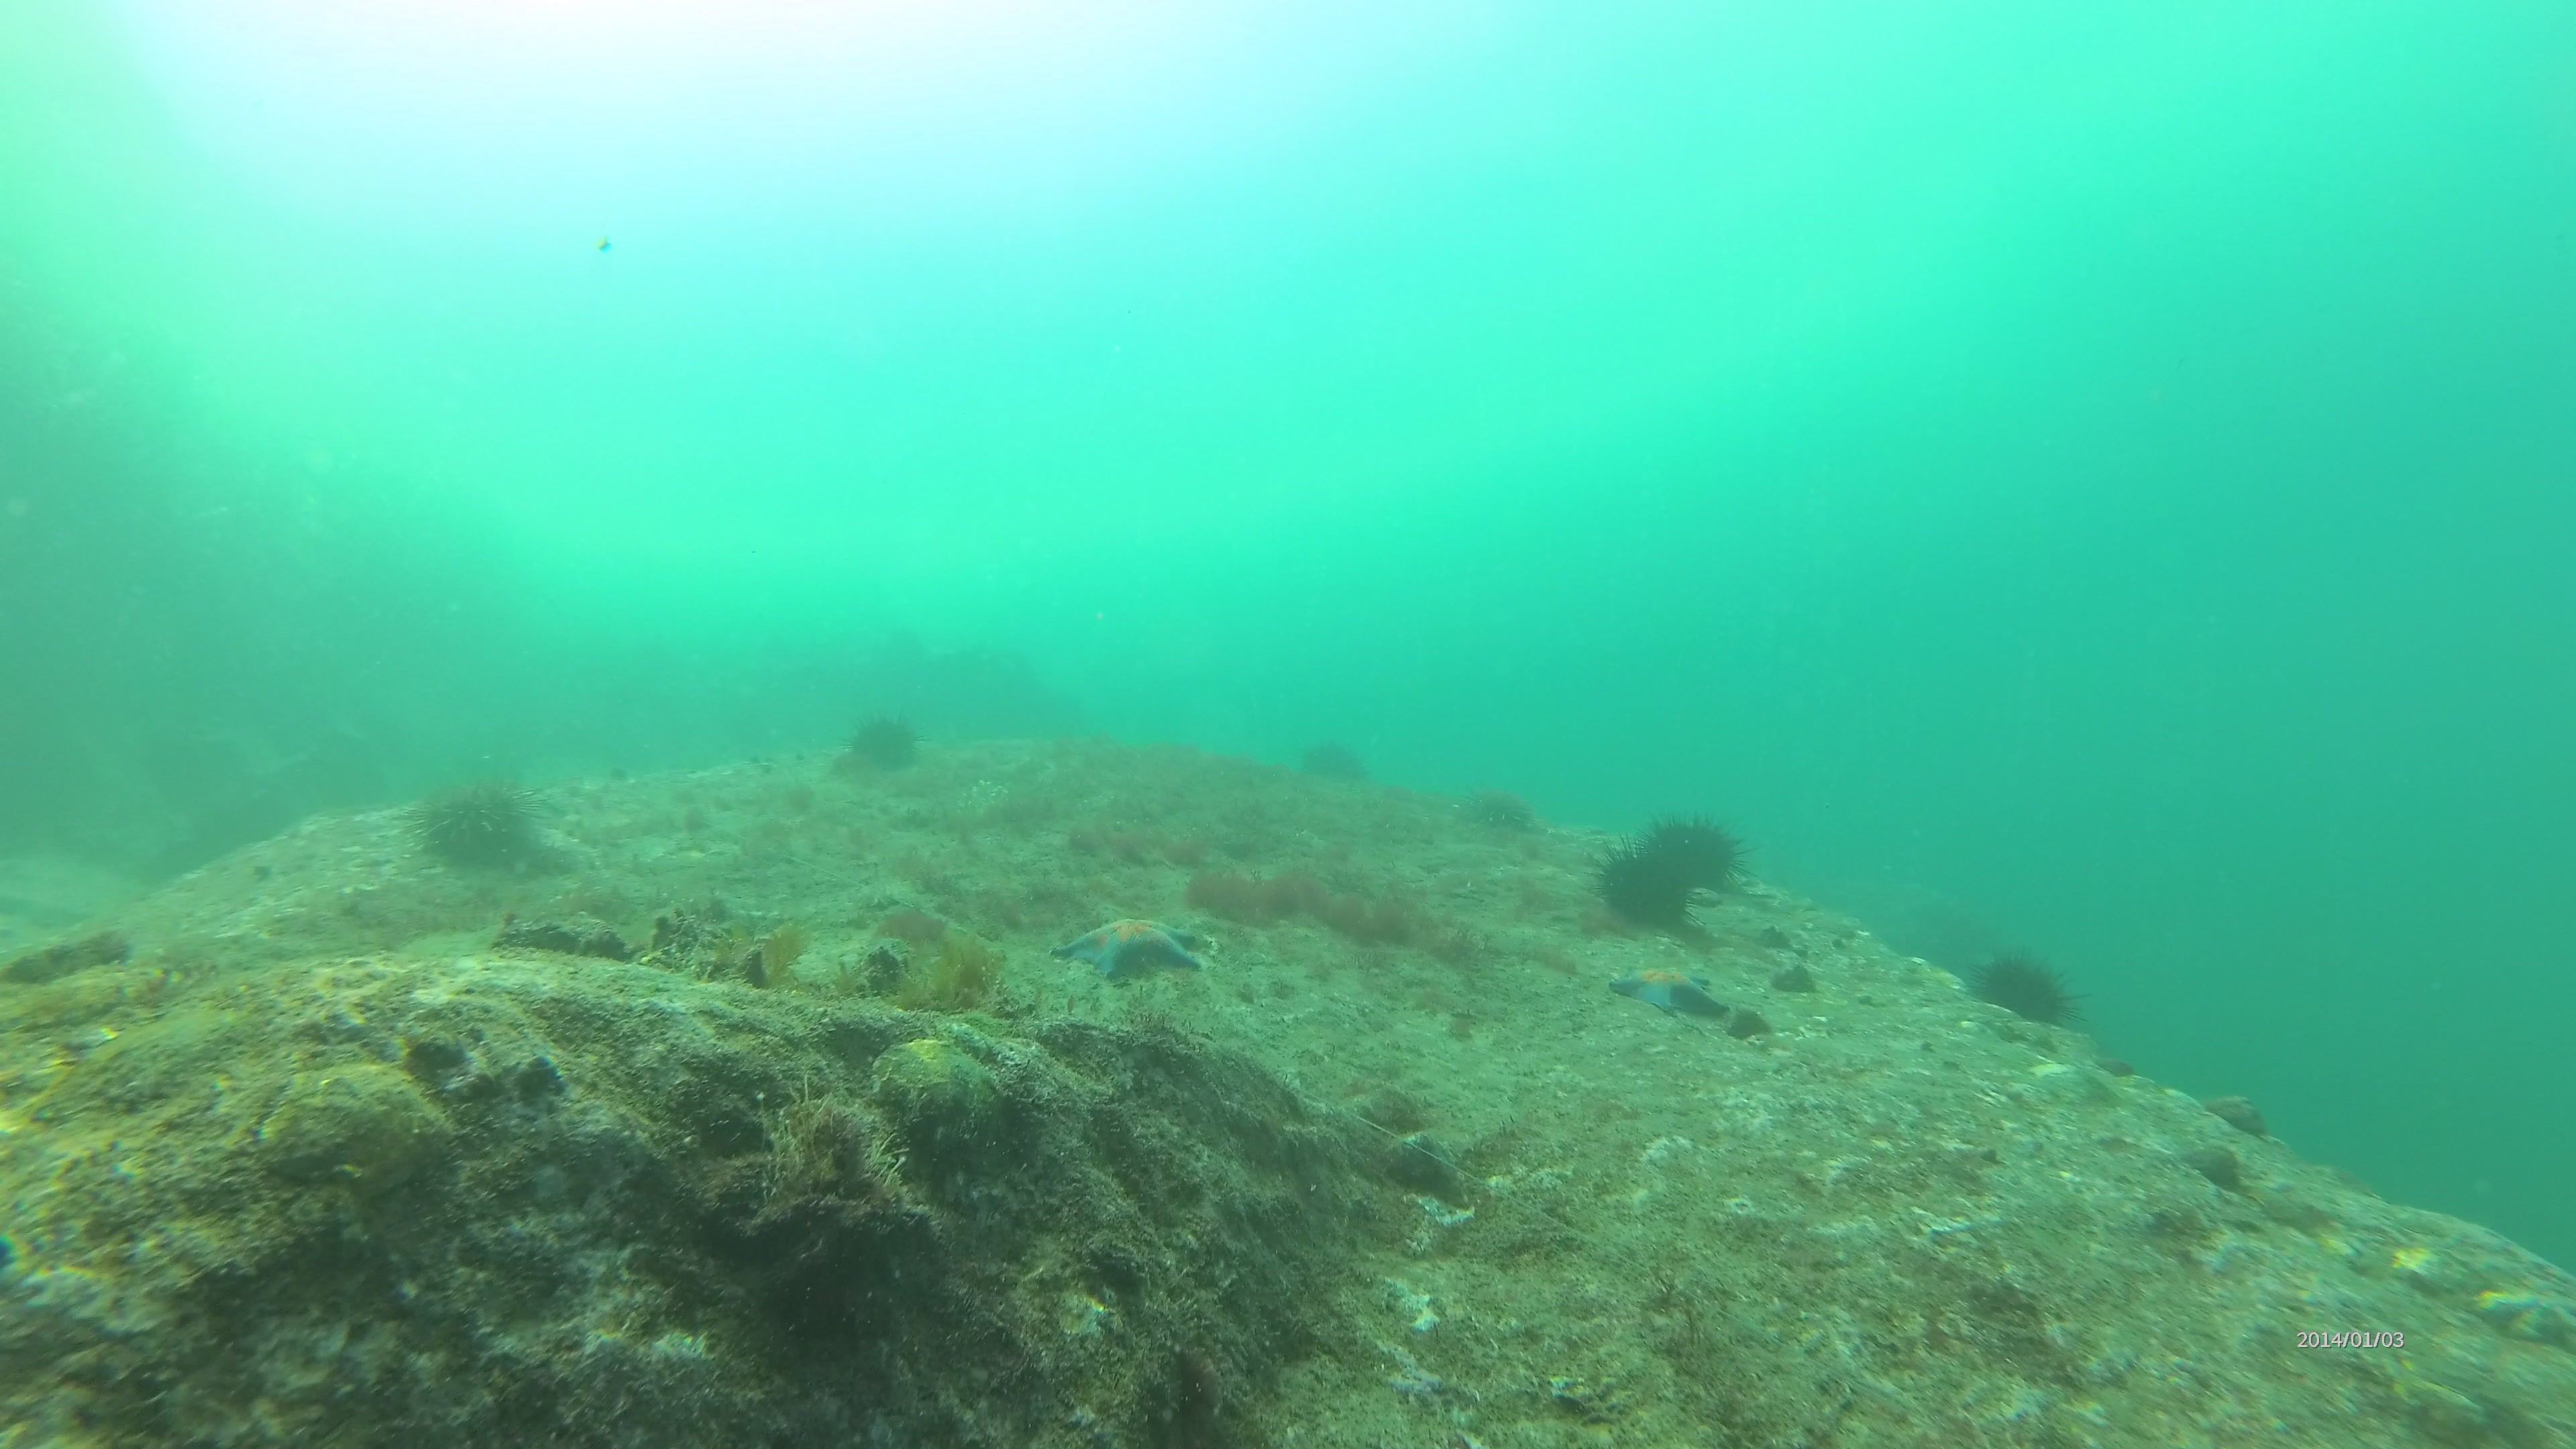echinus: (400, 777, 548, 878), (1960, 948, 2093, 1040), (1578, 835, 1695, 936), (1631, 801, 1752, 899), (837, 709, 932, 778), (1297, 727, 1376, 798), (1463, 775, 1543, 835)
starfish: (1051, 899, 1196, 991), (1606, 962, 1737, 1028)
